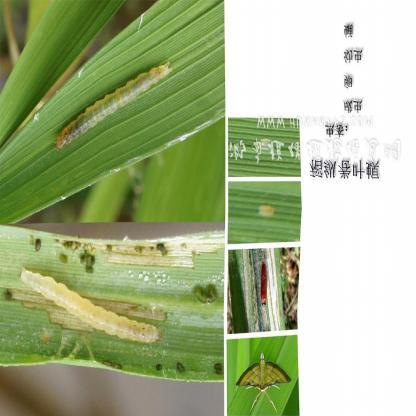leaf-folder: (13, 260, 160, 358), (53, 48, 176, 154), (258, 251, 276, 317), (254, 199, 282, 226)
